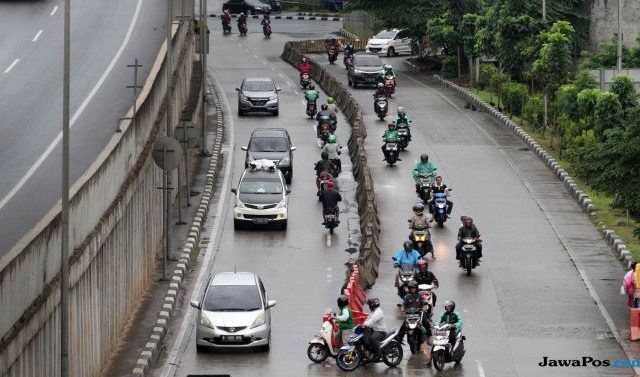car: (195, 266, 274, 354), (231, 161, 291, 230), (243, 127, 292, 183), (236, 75, 280, 117), (363, 28, 414, 59), (346, 52, 385, 91)
motorbike: (338, 297, 403, 368), (310, 296, 366, 365), (430, 301, 470, 374), (399, 282, 434, 353), (454, 215, 484, 279), (394, 243, 420, 301), (407, 205, 434, 260), (414, 260, 436, 318), (427, 175, 450, 227), (320, 182, 341, 236), (391, 108, 412, 153), (319, 137, 342, 178), (415, 156, 435, 200), (315, 154, 335, 196), (381, 123, 400, 167), (316, 104, 334, 143), (374, 83, 389, 122), (323, 98, 338, 135), (381, 64, 395, 98), (304, 85, 317, 120), (297, 57, 310, 87), (259, 15, 274, 40), (325, 39, 339, 65), (220, 10, 234, 35), (236, 12, 248, 37), (344, 44, 353, 68)
